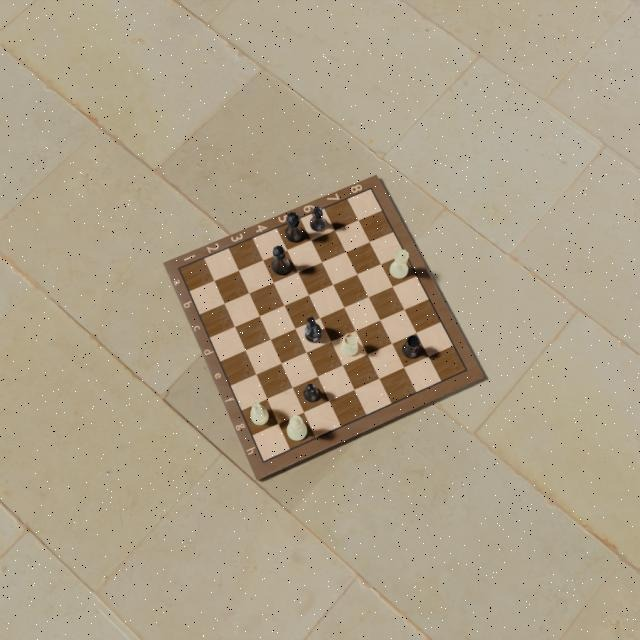black-bishop: (308, 206, 327, 232)
black-king: (271, 244, 291, 275)
black-knight: (304, 315, 322, 344)
black-pawn: (302, 383, 322, 403)
black-queen: (283, 212, 304, 243)
black-rook: (402, 333, 421, 359)
white-king: (284, 414, 307, 442)
white-knight: (250, 401, 270, 427)
white-queen: (390, 247, 410, 281)
white-rook: (340, 331, 359, 357)
